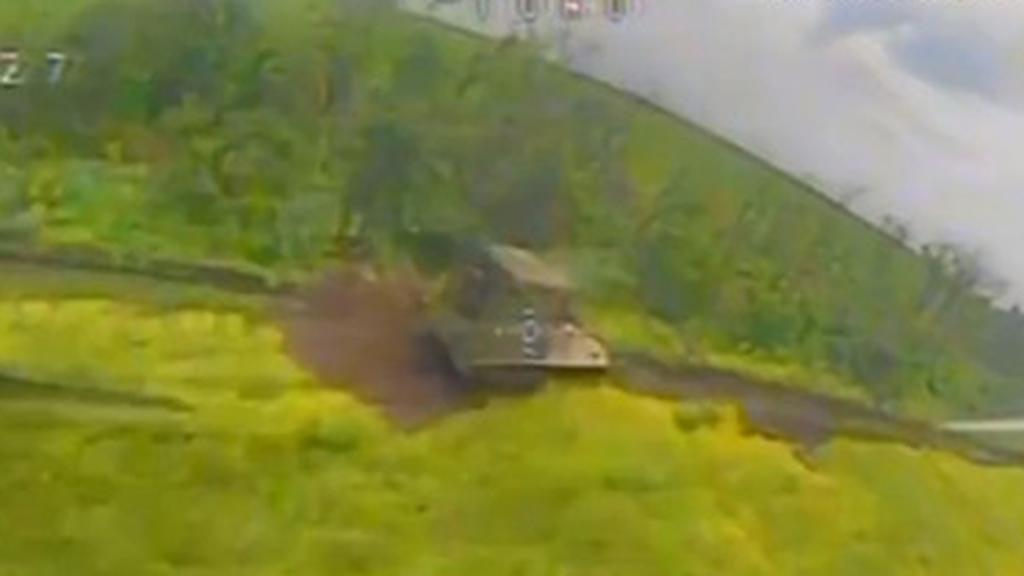APC-IFV: (410, 280, 620, 406)
